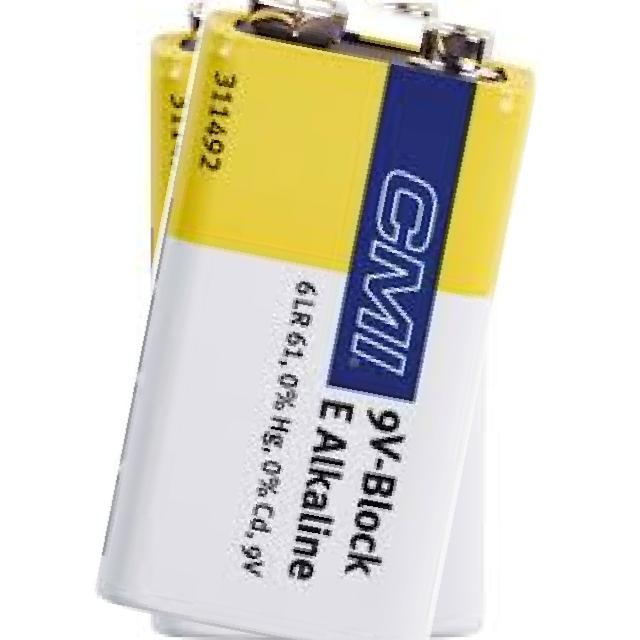Battery: (92, 0, 545, 639)
